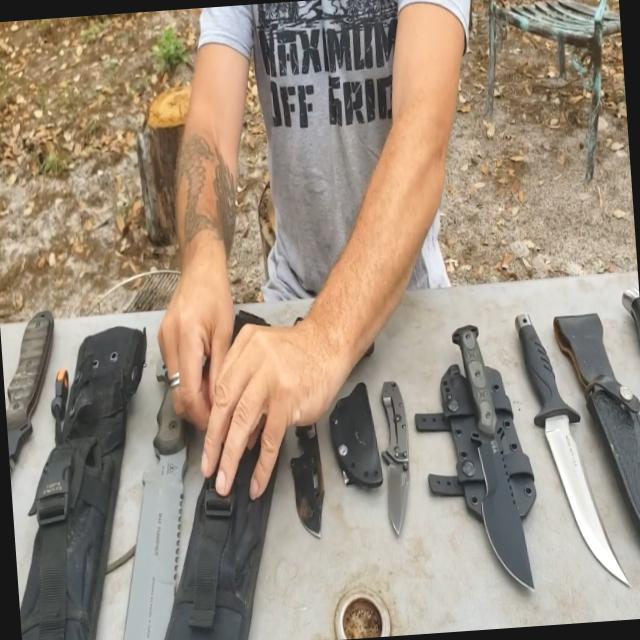knife: (86, 319, 216, 639), (506, 287, 630, 593), (451, 308, 544, 596), (284, 358, 334, 552), (370, 364, 418, 530)
